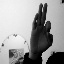f: (30, 2, 54, 53)
